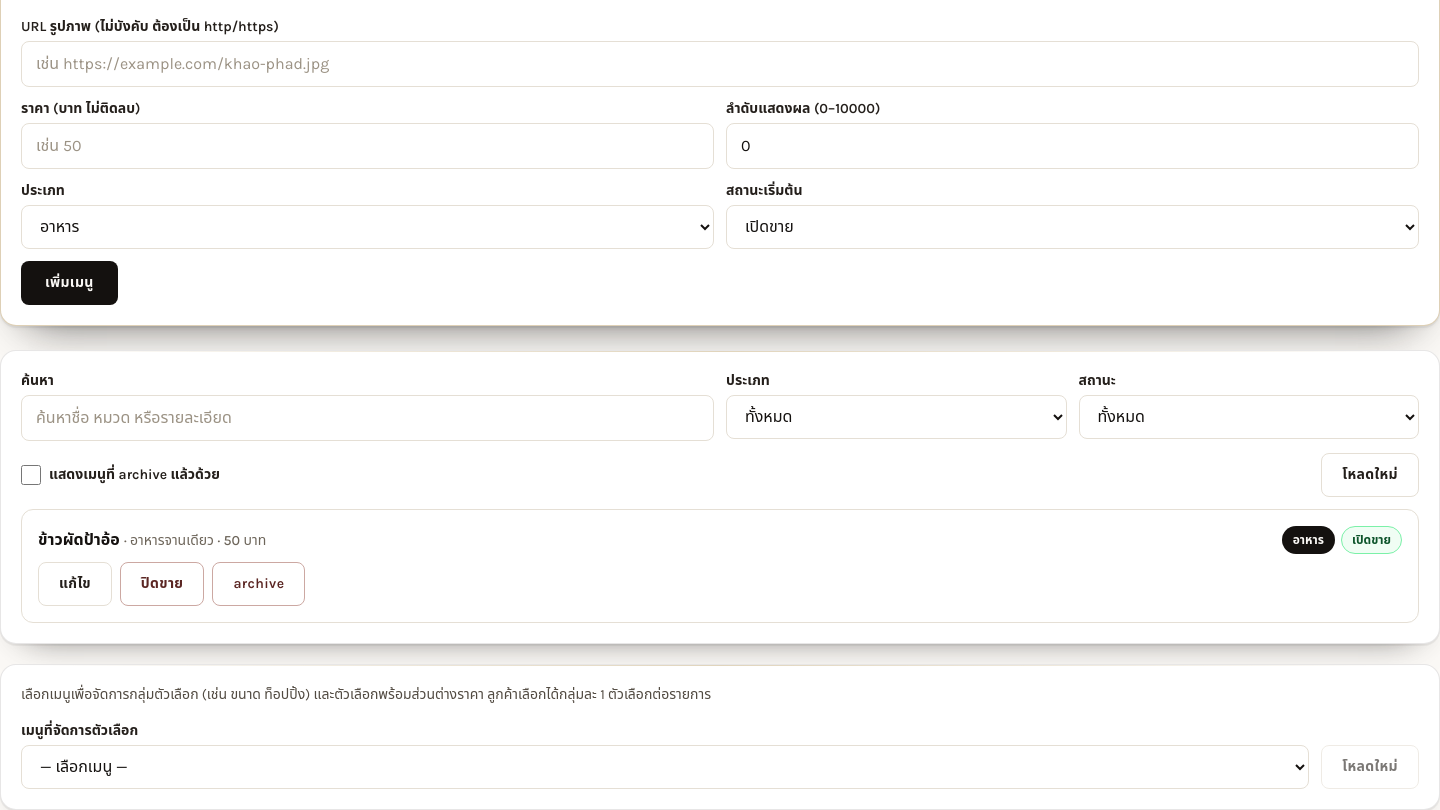
Test: จัดการตัวเลือกเมนูหลังร้าน (Ticket 07) › เลือกเมนูแล้วเห็นกลุ่มและตัวเลือก
(page scrolled)
Select "อาหารจานเดียว · ข้าวผัดป้าอ้อ (50 บาท)" in the dropdown labelled "เมนูที่จัดการตัวเลือก" at (665, 767), box left=21, top=745, right=1309, bottom=789
(page scrolled)
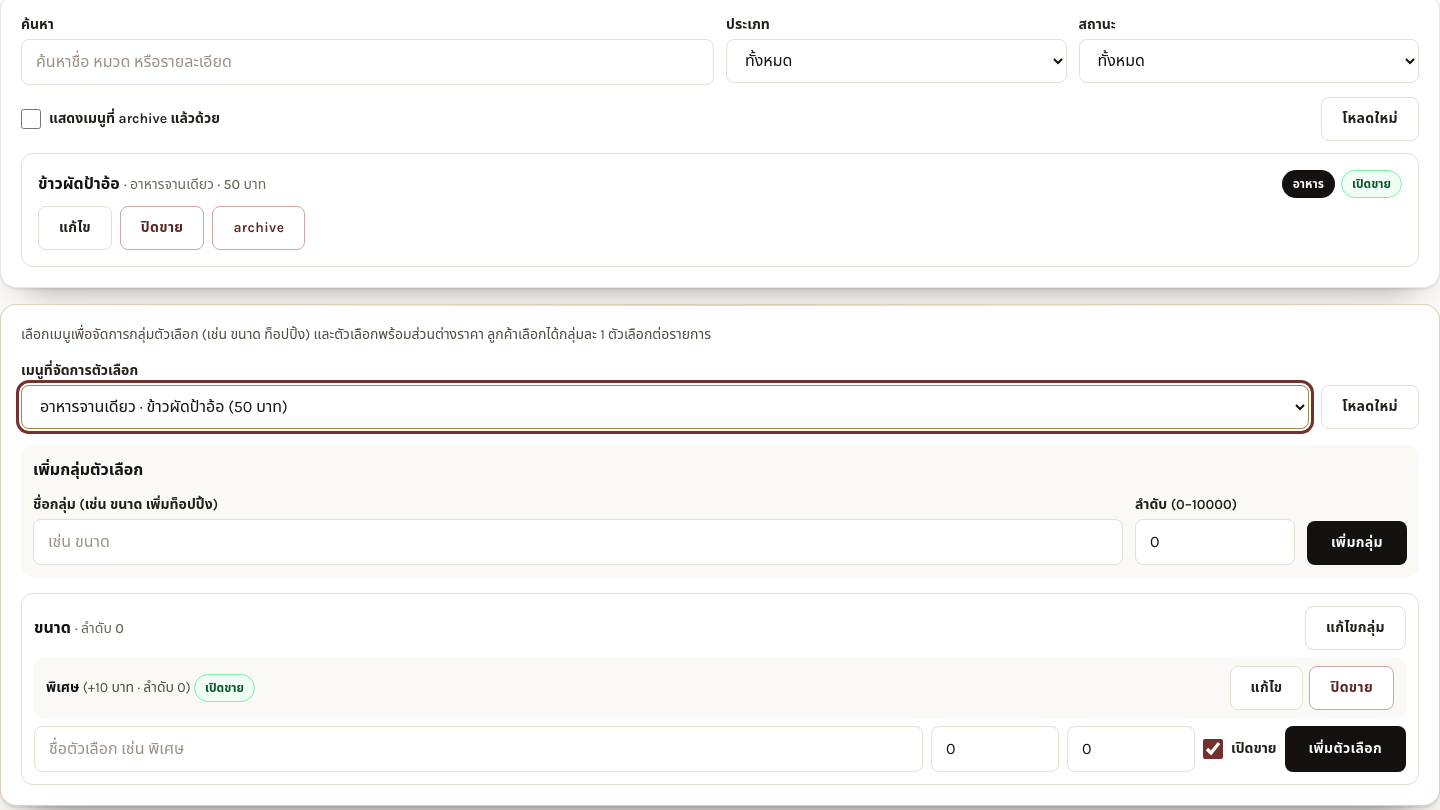
Expected: the text "ขนาด" is shown, left=34, top=618, right=71, bottom=637
Expected: the text "พิเศษ" is shown, left=46, top=679, right=80, bottom=696
